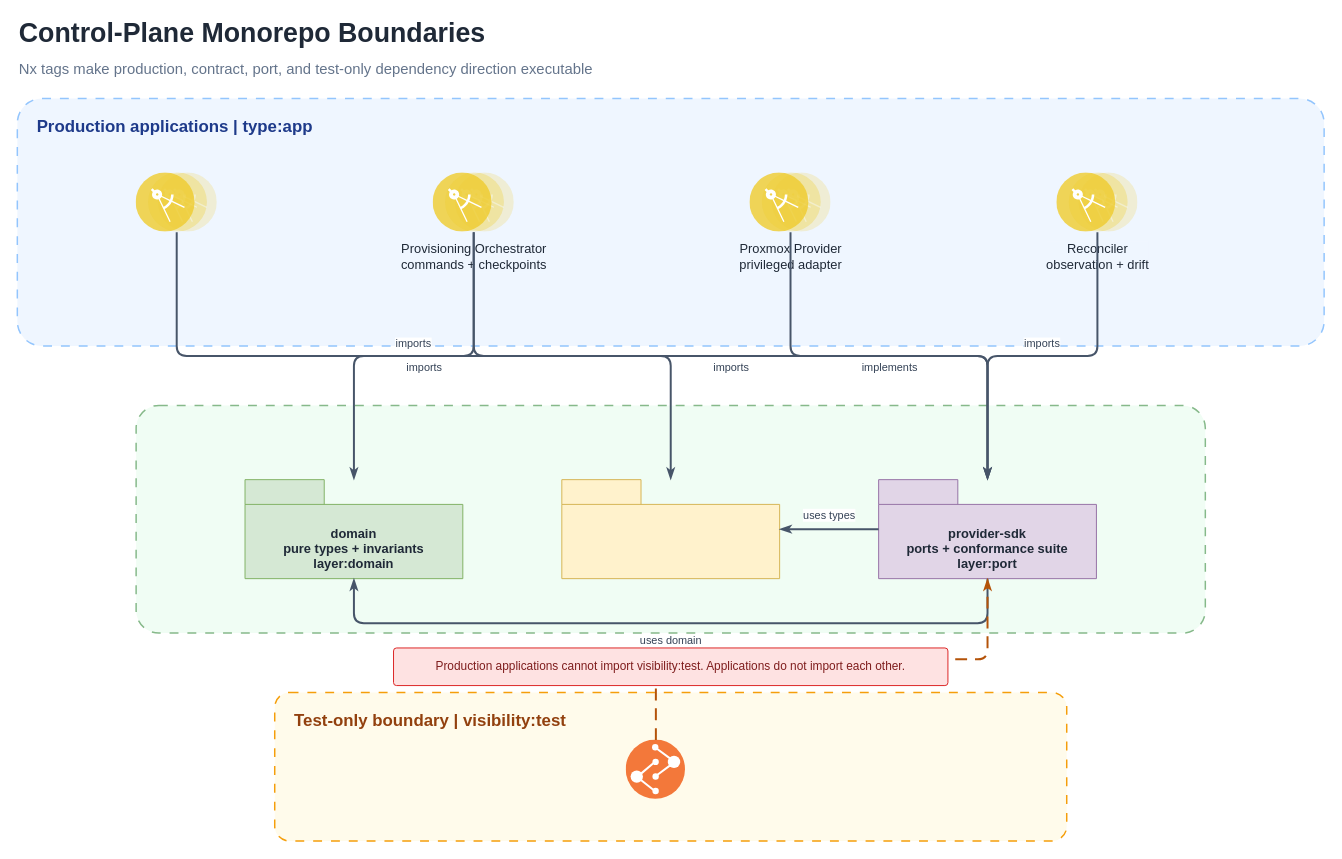
This 1342x859 diagram has some shape labels left out. The shapes that lost their labels are listed below. From the top down, each one's box as (x1, y1, x2, y2) in pixels, then its label:
(136, 172, 217, 232): Control API REST + public gRPC
(135, 404, 1206, 633): Production libraries | visibility:production
(561, 479, 780, 579): contracts OpenAPI + protobuf + events layer:contract
(626, 740, 685, 799): testing fake provider + deterministic fixtures
